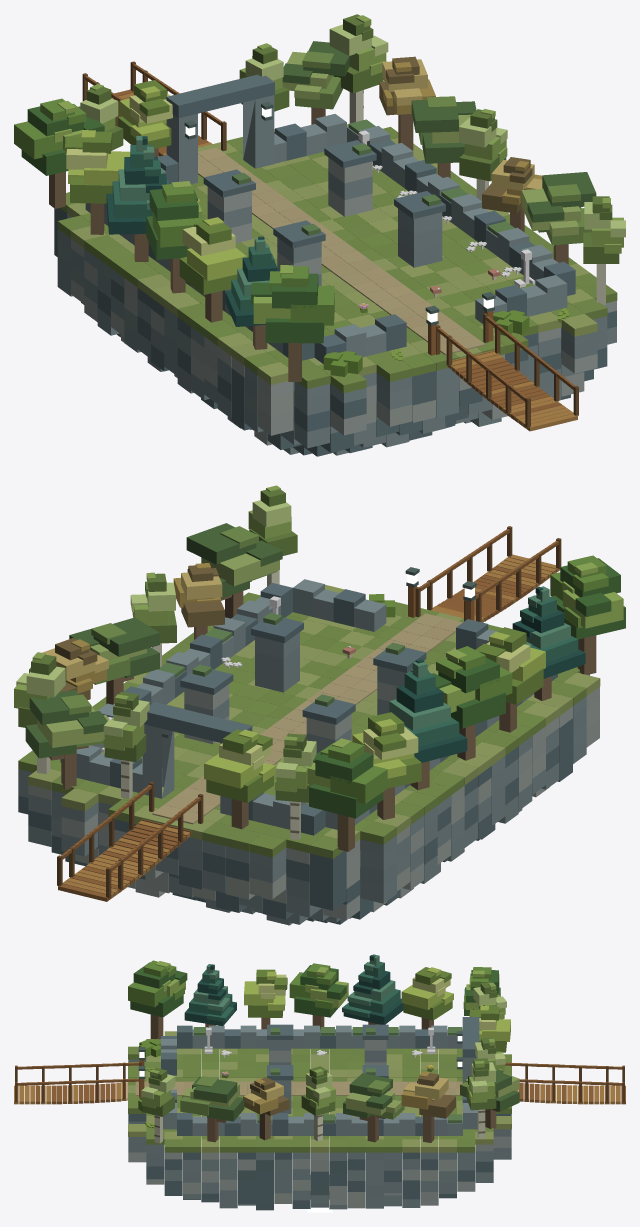
File: room_pillars_purified.glb
The picture shows the model from 3 angles, top to bottom: view 1: azimuth 30°, elevation 25°; view 2: azimuth 150°, elevation 25°; view 3: azimuth 270°, elevation 25°; orthographic projection. The views are drawn at different scales.
Parts seen in each view (by area): view 1: room_pillars_blocks, tree0_(0, 0).001, tree0_(0, 0).003, tree3_(0, 0).001, tree4_(0, 0).001, tree2_(0, 0).002, tree4_(0, 0).002, tree0_(0, 0).002, tree3_(0, 0).003, tree1_(0, 0).003, tree3_(0, 0).002, tree5_(0, 0).002 (+9 smaller); view 2: room_pillars_blocks, tree0_(0, 0).003, tree0_(0, 0).001, tree0_(0, 0).002, tree2_(0, 0).002, tree3_(0, 0).003, tree3_(0, 0).001, tree4_(0, 0).003, tree3_(0, 0).002, tree2_(0, 0).001, tree4_(0, 0).002, tree4_(0, 0).001 (+7 smaller); view 3: room_pillars_blocks, tree0_(0, 0).001, tree2_(0, 0).002, tree0_(0, 0).002, tree3_(0, 0).001, tree3_(0, 0).002, tree4_(0, 0).002, tree5_(0, 0).002, tree2_(0, 0).001, tree4_(0, 0).001, tree1_(0, 0).003, tree5_(0, 0).001 (+7 smaller).
Boxes of the visible parts, x1,y1,x2,y2 form: room_pillars_blocks: [54, 61, 617, 456]; tree0_(0, 0).001: [251, 265, 334, 381]; tree0_(0, 0).003: [14, 98, 104, 208]; tree3_(0, 0).001: [521, 172, 596, 264]; tree4_(0, 0).001: [179, 217, 246, 322]; tree2_(0, 0).002: [106, 136, 168, 261]; tree4_(0, 0).002: [64, 130, 130, 234]; tree0_(0, 0).002: [146, 181, 203, 293]; tree3_(0, 0).003: [282, 41, 349, 124]; tree1_(0, 0).003: [329, 14, 388, 123]; tree3_(0, 0).002: [411, 96, 476, 178]; tree5_(0, 0).002: [379, 56, 435, 150]; room_pillars_blocks: [18, 526, 600, 925]; tree0_(0, 0).003: [303, 738, 387, 851]; tree0_(0, 0).001: [550, 555, 625, 674]; tree0_(0, 0).002: [432, 646, 512, 760]; tree2_(0, 0).002: [389, 659, 467, 790]; tree3_(0, 0).003: [25, 690, 109, 789]; tree3_(0, 0).001: [186, 523, 282, 618]; tree4_(0, 0).003: [204, 729, 275, 829]; tree3_(0, 0).002: [69, 617, 159, 704]; tree2_(0, 0).001: [512, 586, 585, 700]; tree4_(0, 0).002: [352, 712, 421, 819]; tree4_(0, 0).001: [475, 627, 545, 732]; room_pillars_blocks: [14, 1017, 625, 1212]; tree0_(0, 0).001: [128, 960, 187, 1039]; tree2_(0, 0).002: [342, 954, 403, 1024]; tree0_(0, 0).002: [289, 963, 348, 1029]; tree3_(0, 0).001: [180, 1076, 244, 1142]; tree3_(0, 0).002: [343, 1073, 404, 1142]; tree4_(0, 0).002: [401, 967, 453, 1029]; tree5_(0, 0).002: [401, 1071, 455, 1142]; tree2_(0, 0).001: [184, 964, 236, 1027]; tree4_(0, 0).001: [244, 969, 287, 1029]; tree1_(0, 0).003: [466, 1058, 496, 1138]; tree5_(0, 0).001: [243, 1077, 289, 1140].
Size of the model in its own units: 19.1 by 14.02 by 38.5.
